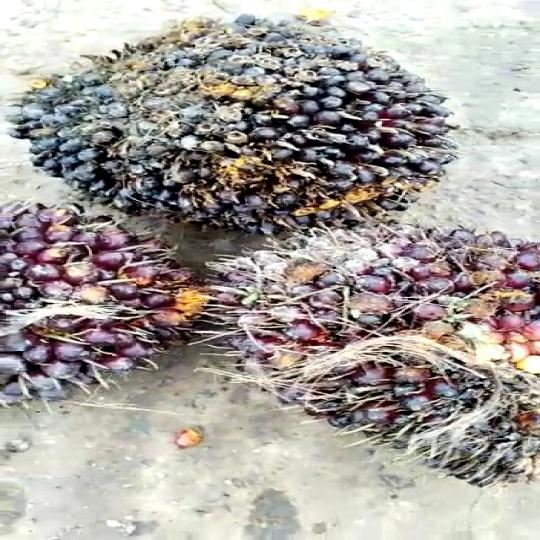kurang masak: (7, 14, 461, 250), (211, 216, 540, 508), (0, 194, 206, 405)
